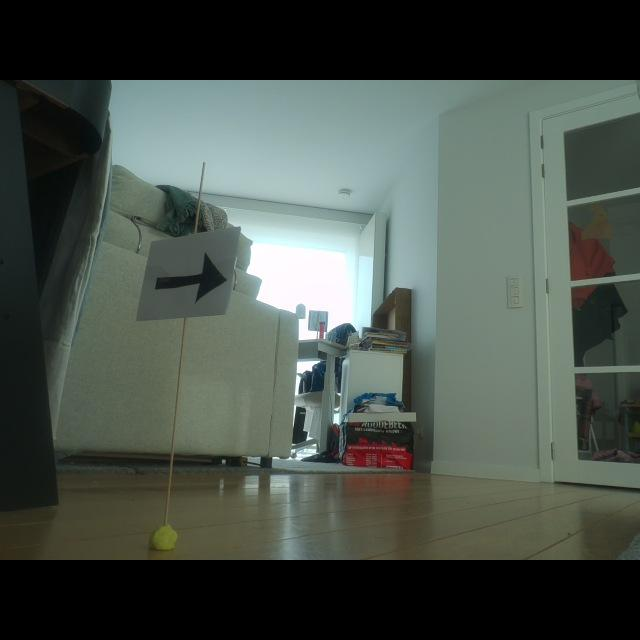jobbra_nyil: (155, 253, 226, 302)
